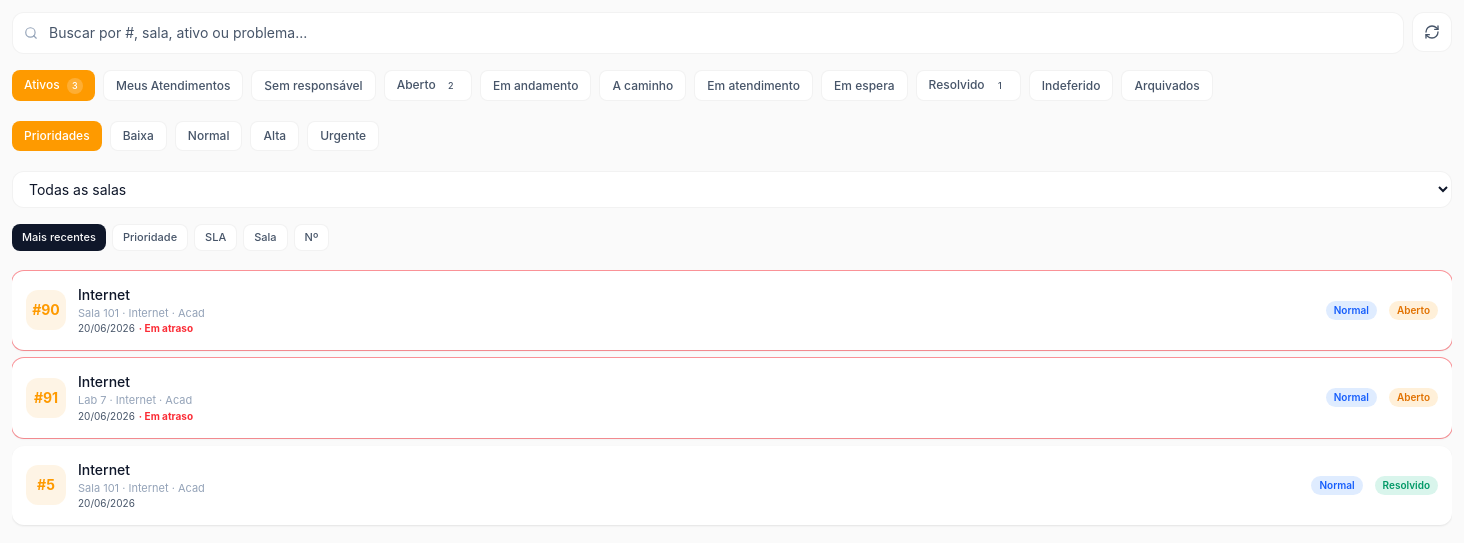
Test: TicketList — a fila operacional não é a área pessoal › resolvido continua na fila como antes; acompanhamento é outra tela
Expected: the text "#5" is shown, [26,465,66,505]
What coordinates should you click on to do the following:
click the button "Arquivados"
I would click on:
 (1167, 86)
Its box is [1122,70,1213,101].
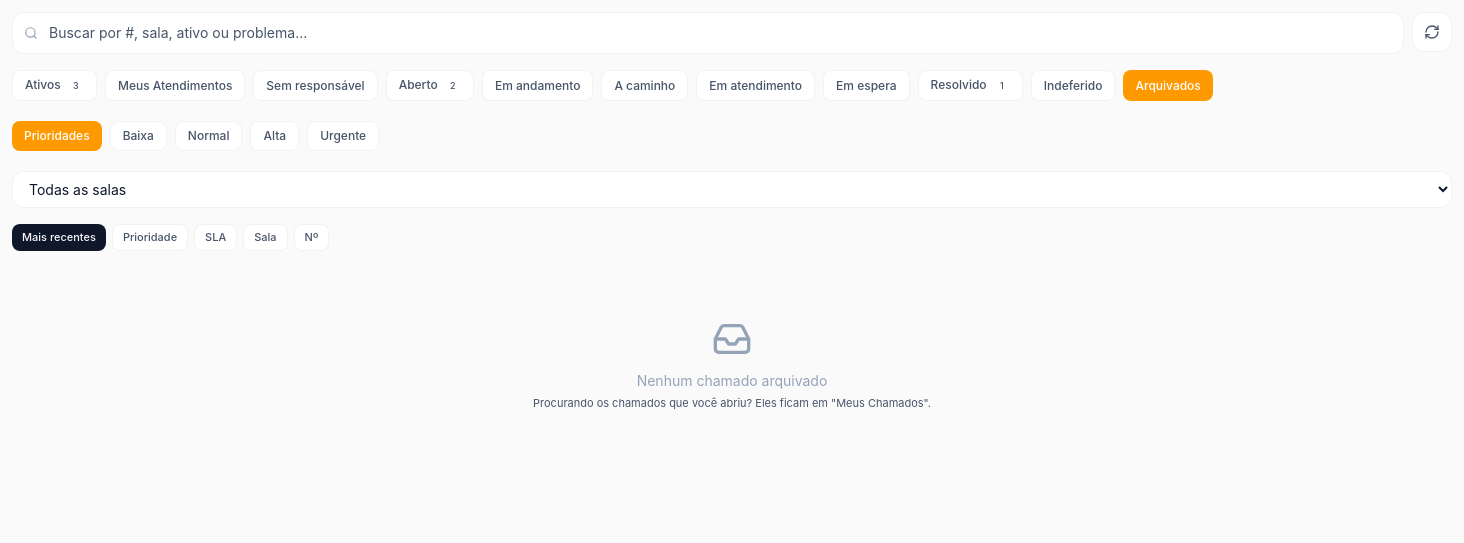
Result: the button "#5" is gone
